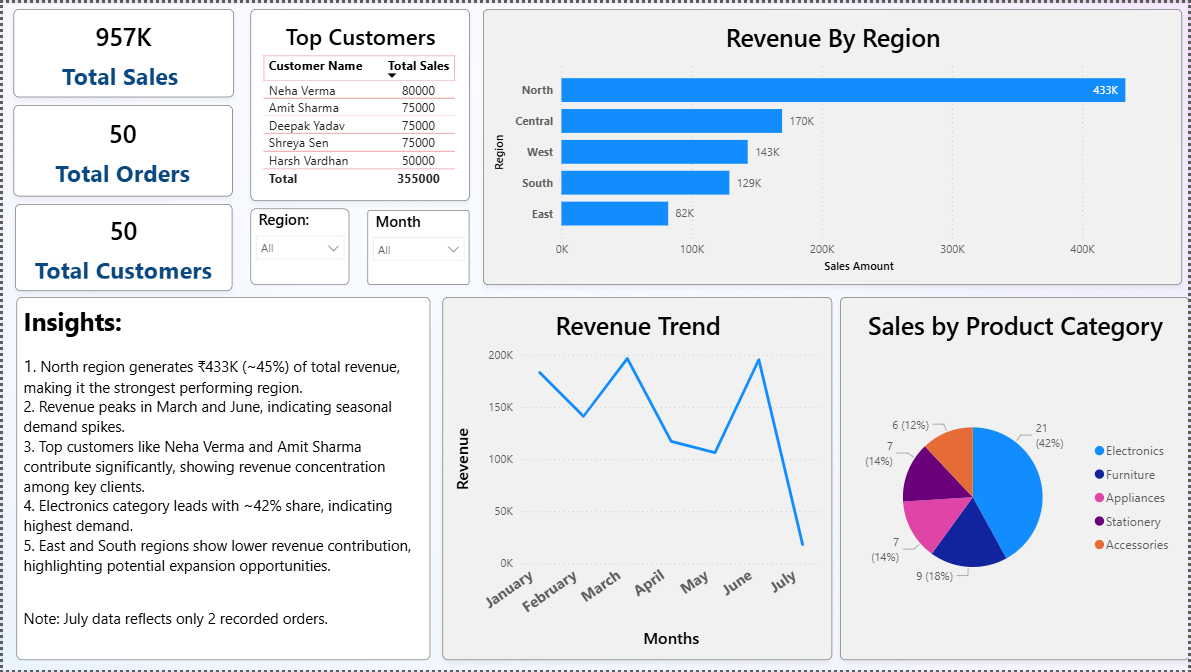

The page's visual inventory and layout, read from the dashboard file:
{"tool":"powerbi","page":{"name":"Page 1","canvas":[1280,720],"ordinal":0},"visuals":[{"type":"card","fields":{"Values":["Sum(sales_data.sales_amount)"]},"box":[13,14.6,238,95.5],"z":0},{"type":"card","fields":{"Values":["CountNonNull(sales_data.order_id)"]},"box":[13,123.3,237,99],"z":1000},{"type":"card","fields":{"Values":["Count(sales_data.customer_id)"]},"box":[14.6,243.5,237,103.9],"z":2000},{"type":"barChart","title":"Revenue By Region","fields":{"Category":["sales_data.region"],"Y":["Sum(sales_data.sales_amount)"]},"box":[540.8,0,740,252.6],"z":3000},{"type":"lineChart","title":"Revenue Trend","fields":{"Category":["sales_data.order_date.Variation.Date Hierarchy.Month"],"Y":["Sum(sales_data.sales_amount)"]},"box":[446.3,254.8,449.6,465.8],"z":4000},{"type":"pieChart","title":"Sale by Product Category","fields":{"Y":["CountNonNull(sales_data.product_id)"],"Category":["products.category"]},"box":[895.4,252.6,385.4,468],"z":5000},{"type":"tableEx","title":"Top Customers","fields":{"Values":["customer.customer_name","Sum(sales_data.sales_amount)"]},"box":[267.8,14.6,253.2,207.7],"z":6000},{"type":"slicer","fields":{"Values":["sales_data.region"]},"box":[267.8,295.4,142.8,64.9],"z":7000},{"type":"slicer","fields":{"Values":["sales_data.order_date.Variation.Date Hierarchy.Month"]},"box":[269.4,235.3,141.2,60.1],"z":8000},{"type":"textbox","box":[0,359.5,446.9,361.1],"z":9000}]}

Visuals, with their boxes in screenshot pixels (x1, y1, x2, y2), scaled from the page's 1280x720 canvas onto the 1191x672 screenshot:
card - Sum(sales_data.sales_amount): <bbox>12, 14, 234, 103</bbox>
card - CountNonNull(sales_data.order_id): <bbox>12, 115, 233, 207</bbox>
card - Count(sales_data.customer_id): <bbox>14, 227, 234, 324</bbox>
"Revenue By Region" barChart: <bbox>503, 0, 1190, 236</bbox>
"Revenue Trend" lineChart: <bbox>415, 238, 834, 671</bbox>
"Sale by Product Category" pieChart: <bbox>833, 236, 1190, 671</bbox>
"Top Customers" tableEx: <bbox>249, 14, 485, 207</bbox>
slicer - sales_data.region: <bbox>249, 276, 382, 336</bbox>
slicer - sales_data.order_date.Variation.Date Hierarchy.Month: <bbox>251, 220, 382, 276</bbox>
textbox: <bbox>0, 336, 416, 671</bbox>
